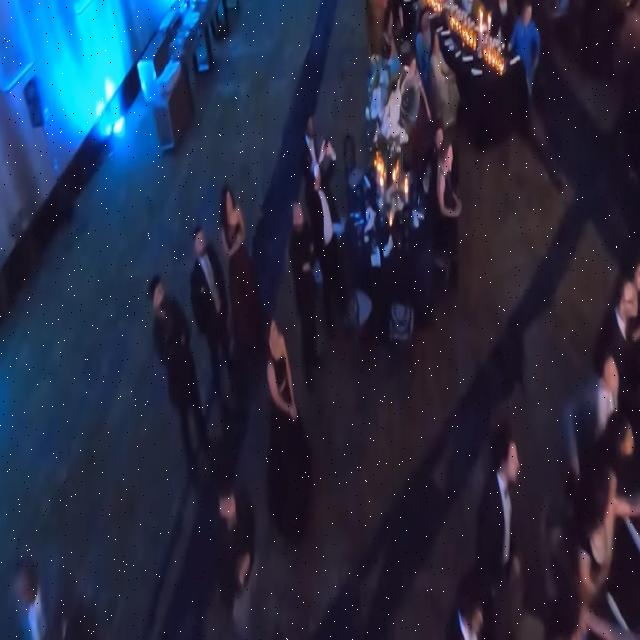humans: (263, 313, 311, 535), (212, 473, 255, 639), (478, 423, 522, 569), (218, 177, 256, 336), (189, 224, 223, 387), (572, 455, 617, 578), (146, 266, 186, 394), (432, 136, 463, 293), (287, 194, 313, 371), (449, 573, 498, 640), (511, 0, 541, 102), (588, 338, 622, 419), (606, 271, 636, 351), (298, 104, 321, 179), (431, 120, 449, 154)
